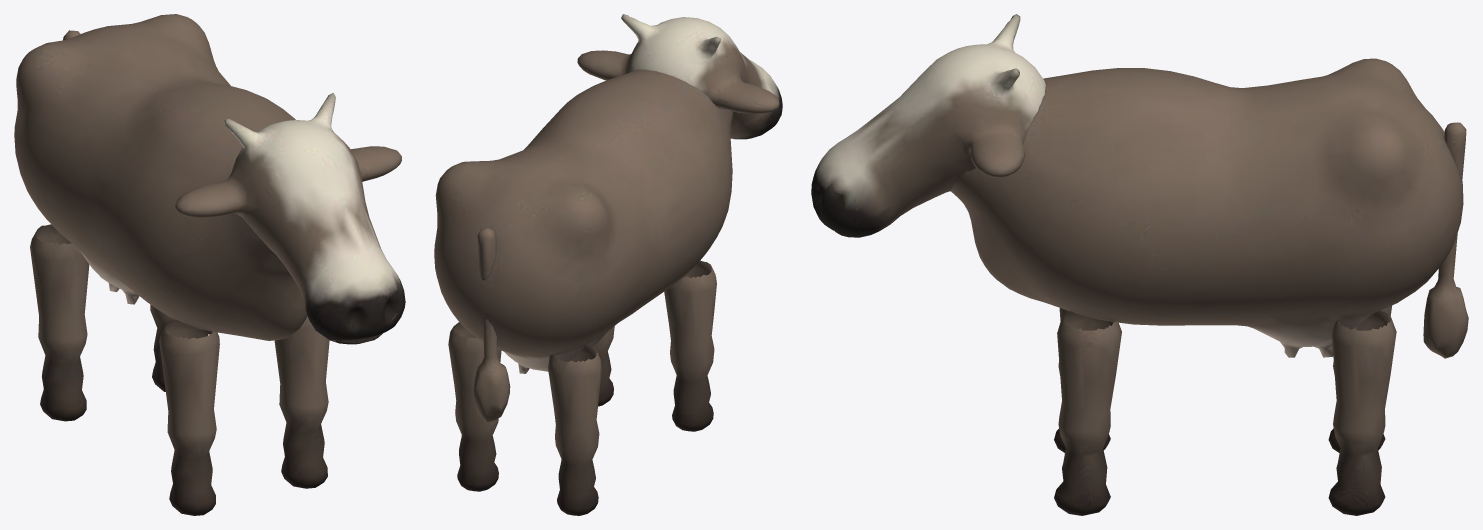
The model's file is animal_brown_swiss.glb.
3 views of the same model, side by side, from view 1: azimuth 30°, elevation 25°; view 2: azimuth 150°, elevation 25°; view 3: azimuth 270°, elevation 25° (orthographic). The views are drawn at different scales.
Visible parts, largest first — view 1: animal_brown_swiss, head, leg0, leg2, leg1, leg3; view 2: animal_brown_swiss, head, leg2, leg0, leg3, tail, leg1; view 3: animal_brown_swiss, head, leg1, leg3, tail.
Part boxes in pixels (box(x1,y1,x2,y2)): animal_brown_swiss: box(14, 14, 307, 340); head: box(175, 93, 405, 344); leg0: box(159, 320, 219, 515); leg2: box(30, 224, 89, 421); leg1: box(274, 316, 329, 488); leg3: box(150, 304, 175, 391); animal_brown_swiss: box(434, 69, 733, 373); head: box(577, 14, 782, 139); leg2: box(548, 345, 601, 515); leg0: box(664, 260, 716, 431); leg3: box(448, 322, 501, 491); tail: box(473, 228, 510, 422); leg1: box(595, 326, 614, 406); animal_brown_swiss: box(951, 58, 1463, 357); head: box(811, 14, 1045, 237); leg1: box(1054, 311, 1121, 515); leg3: box(1328, 310, 1396, 515); tail: box(1423, 122, 1468, 358).
Size of the model in its own units: 0.2992 by 0.5329 by 0.7183.
1 material, 1 textured.
